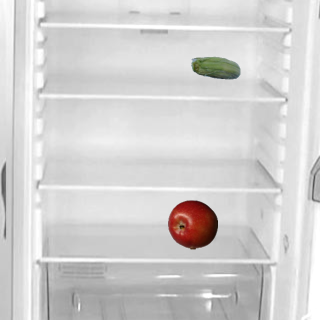Apple Braeburn: (167, 199, 217, 249)
Corn Husk: (190, 44, 240, 94)
